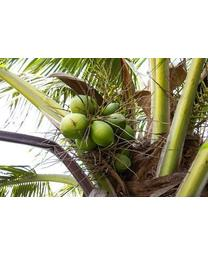coconut: (59, 113, 90, 142), (91, 119, 116, 149), (71, 93, 99, 118), (99, 113, 129, 133), (113, 154, 134, 171)
